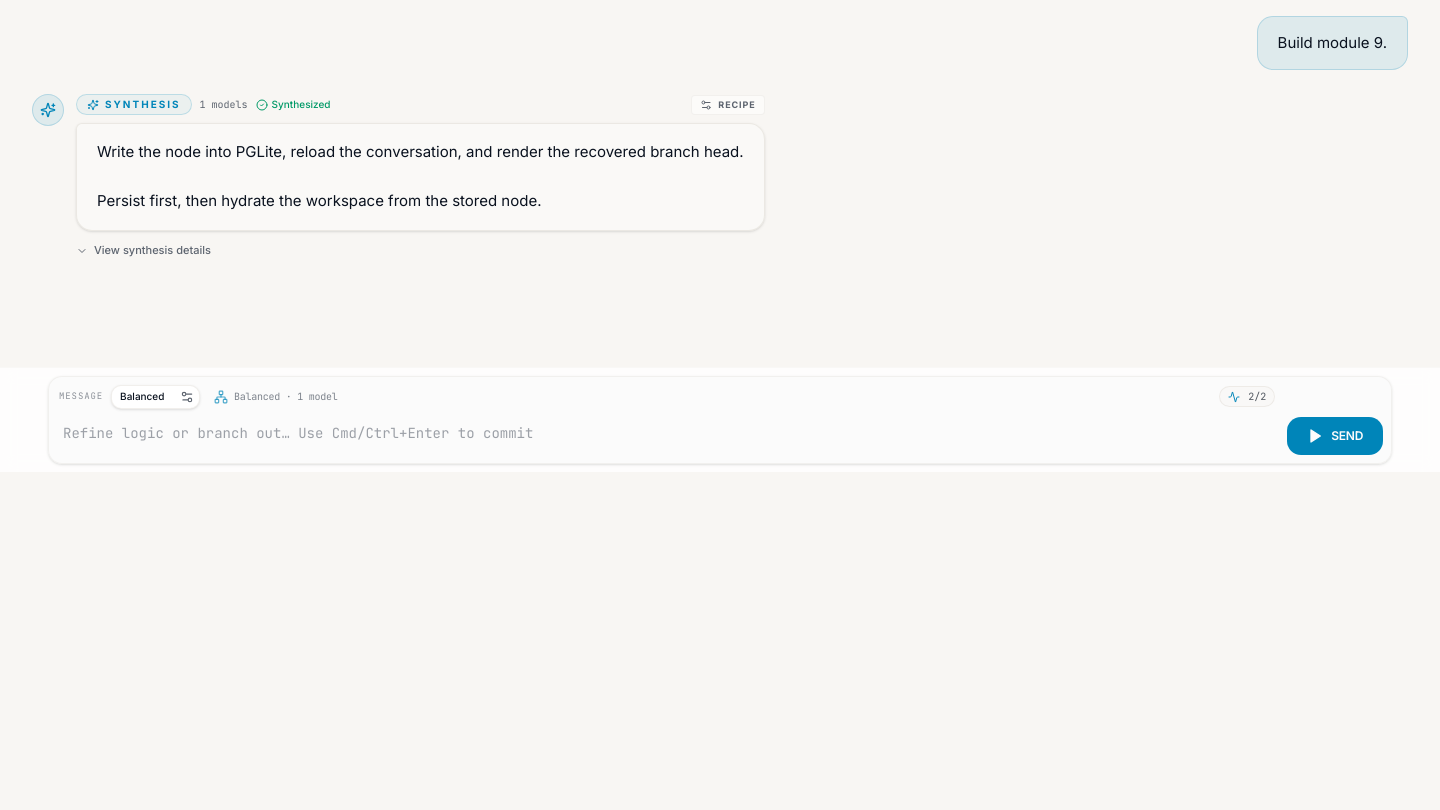
Test: ProgressiveWorkspace › persists a failed node when execution throws and keeps the previous report visible
Expected: the text "Write the node into PGLite, reload the conversation" is shown, [97,142,744,210]
Type "Retry module 9." into the text box named "Question". click: (666, 436)
box: [57,416,1275,454]
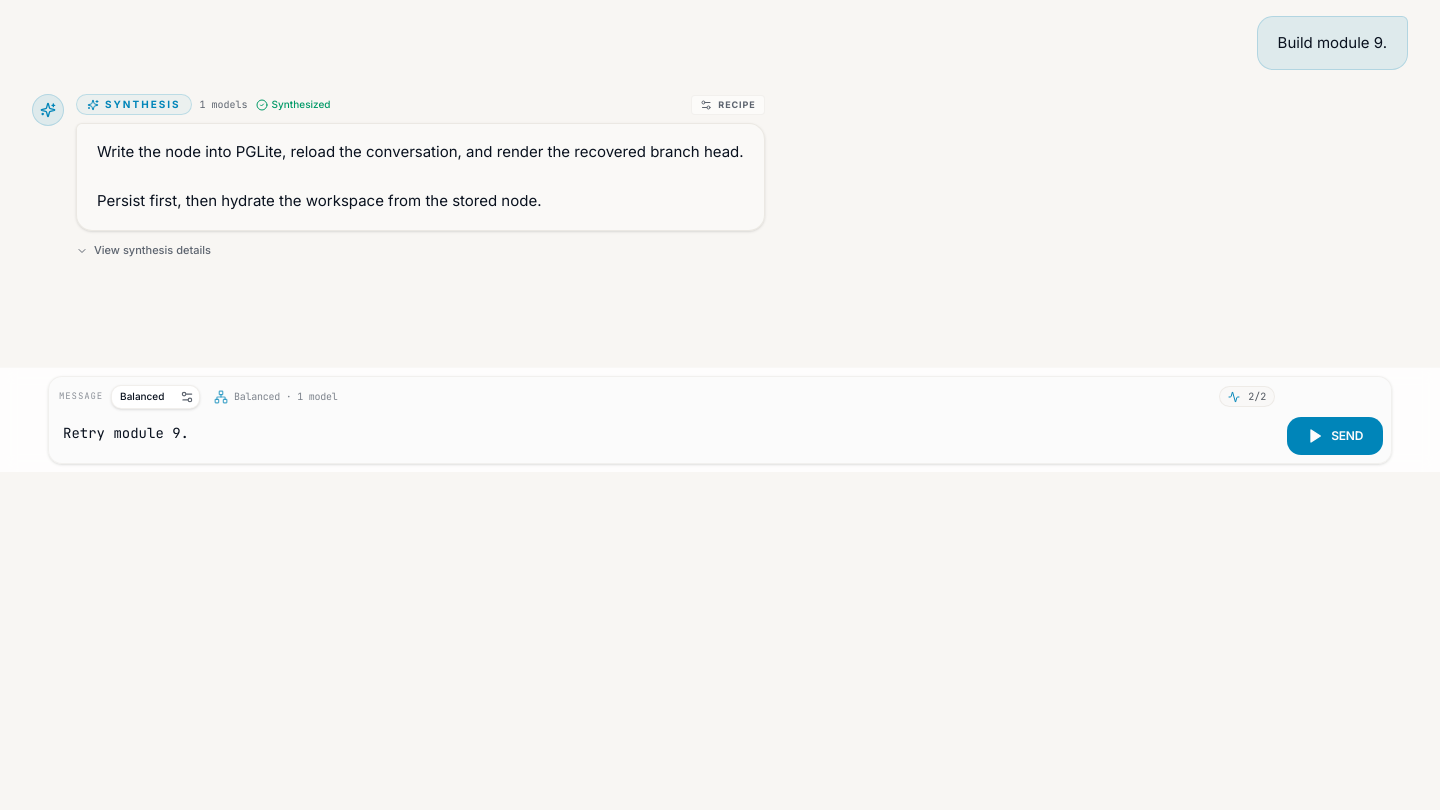
// Use Cmd+Enter to submit (the Commit button doesn't have "Analyze question" anymore)
Press Enter in the text box named "Question", box [57,416,1275,454]
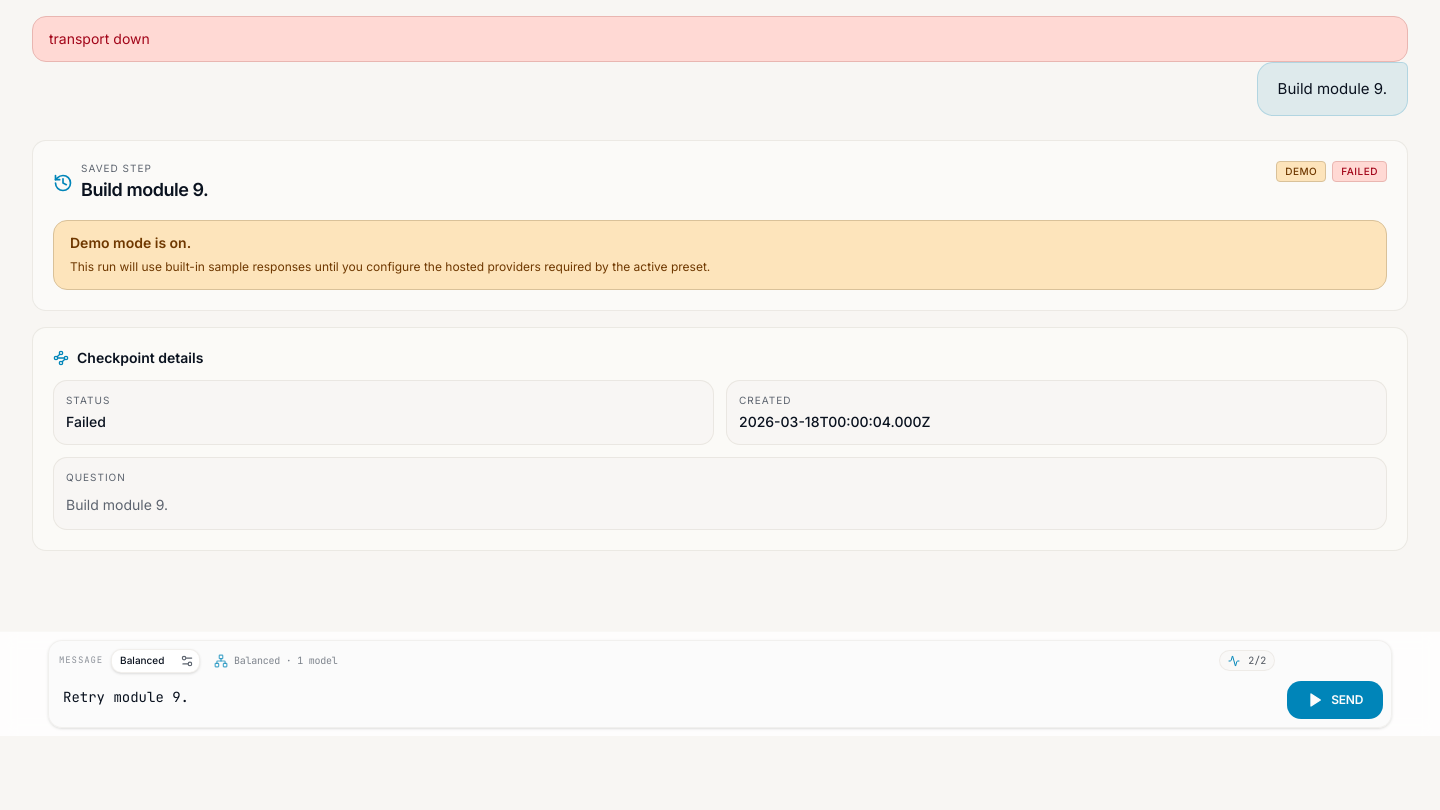
Now the text "transport down" is shown, box [32,16,1408,62]
